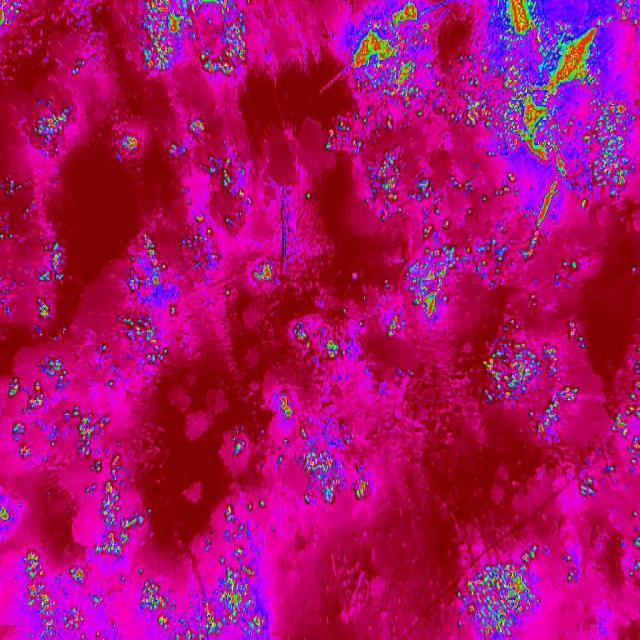fire: (320, 0, 640, 339), (0, 179, 144, 640), (106, 111, 311, 371), (480, 333, 640, 502), (139, 492, 285, 640), (230, 383, 378, 518), (452, 546, 586, 640), (132, 0, 255, 82), (28, 98, 76, 158), (321, 328, 346, 364), (0, 0, 24, 30), (630, 514, 640, 574)
